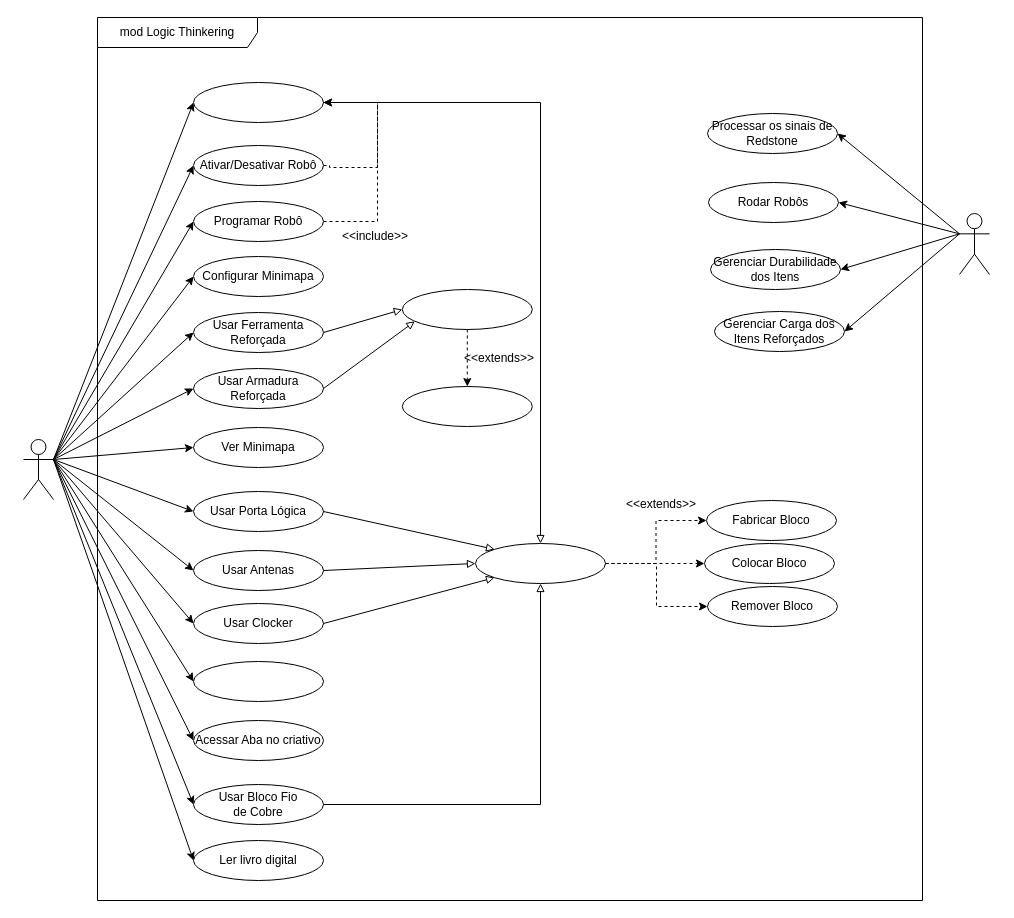
This 1014x918 diagram has some shape labels left out. The shapes that lost their labels are listed below. From the top down, each one's centre as x and y in pixels, then its label:
At (258,102): "Usar Robô".
At (974,243): "Servidor".
At (466,309): "Usar Item".
At (466,406): "Fabricar Item".
At (38,469): "Jogador".
At (540,563): "Usar bloco".
At (258,681): "Fazer quiz digital".
